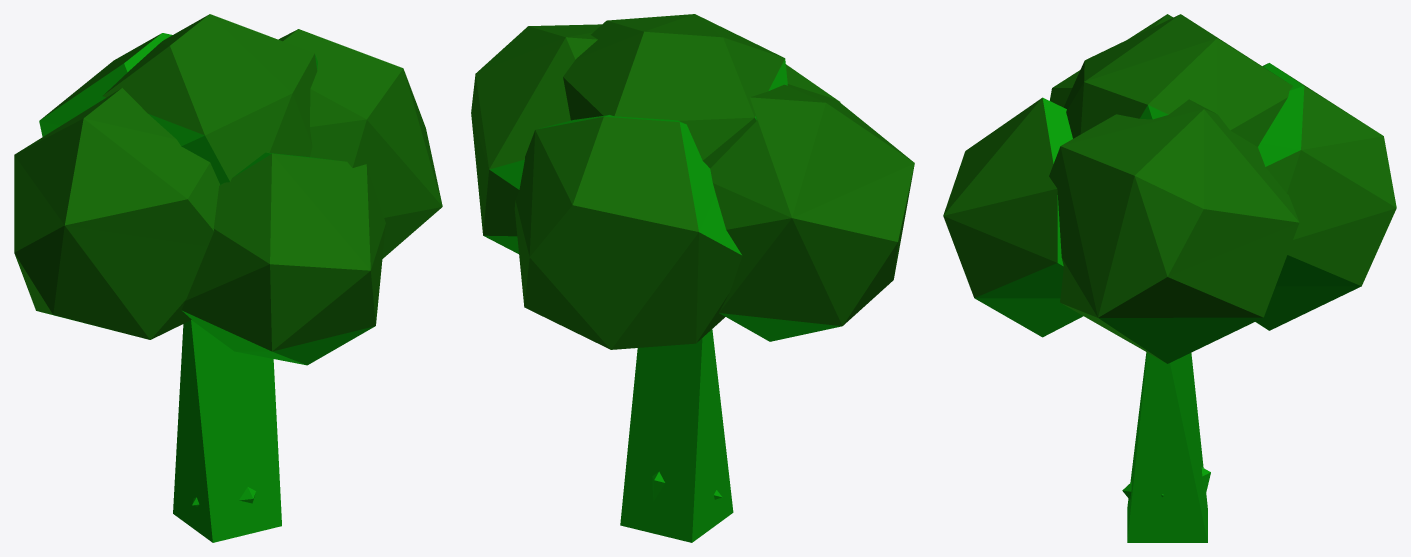
File: brocolli.fbx
The picture shows the model from 3 angles, left to right: view 1: azimuth 30°, elevation 25°; view 2: azimuth 150°, elevation 25°; view 3: azimuth 270°, elevation 25°; orthographic projection. The views are drawn at different scales.
Parts seen in each view (by area): view 1: Cube; view 2: Cube; view 3: Cube.
Boxes of the visible parts, x1=… form: Cube: x1=14, y1=14, x2=442, y2=542; Cube: x1=471, y1=14, x2=914, y2=542; Cube: x1=943, y1=14, x2=1396, y2=542.
Bounding box in the file's own units: 1190 × 1343 × 1124.
